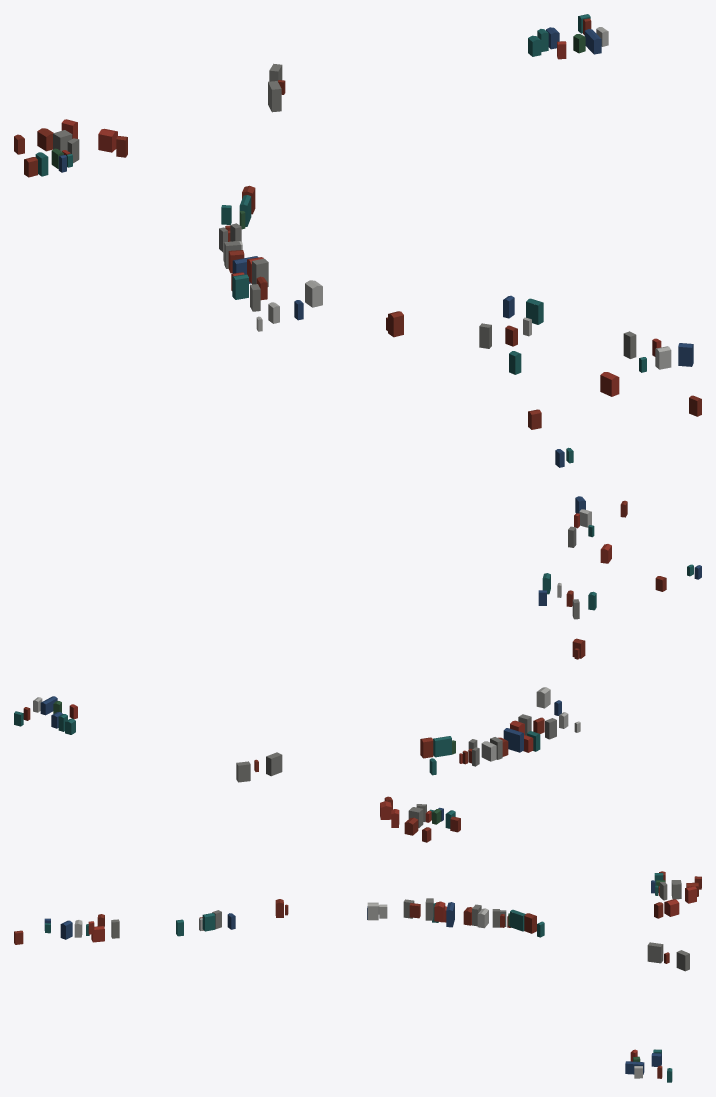
File: near-15-27349-14867.db7d043b.glb
3 views of the same model, one above another, from view 1: azimuth 30°, elevation 25°; view 2: azimuth 150°, elevation 25°; view 3: azimuth 270°, elevation 25° (orthographic). The views are drawn at different scales.
Bounding box in the file's own units: 655 × 101 × 941.
